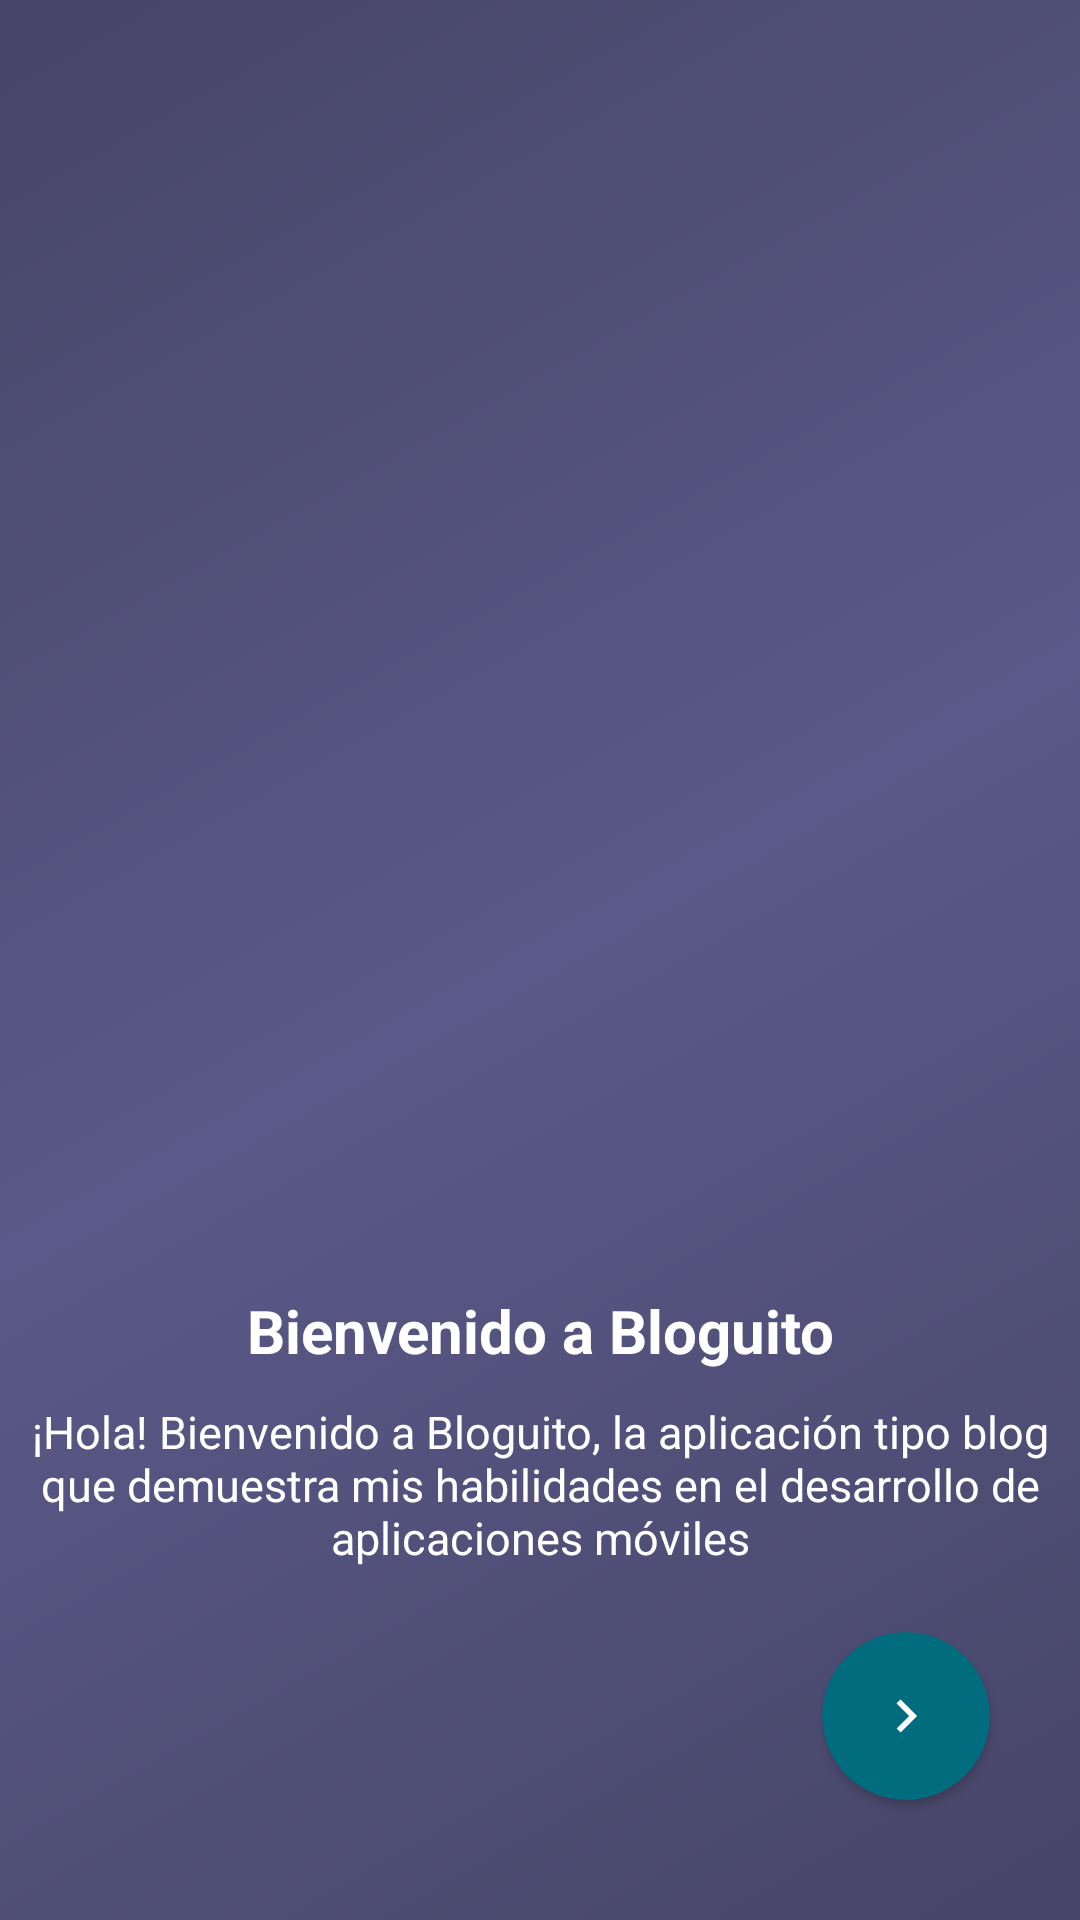

Where to tap for icons on this 1080 x 1920 app screen, as [x,y]:
keyboard arrow right: [906,1716]
